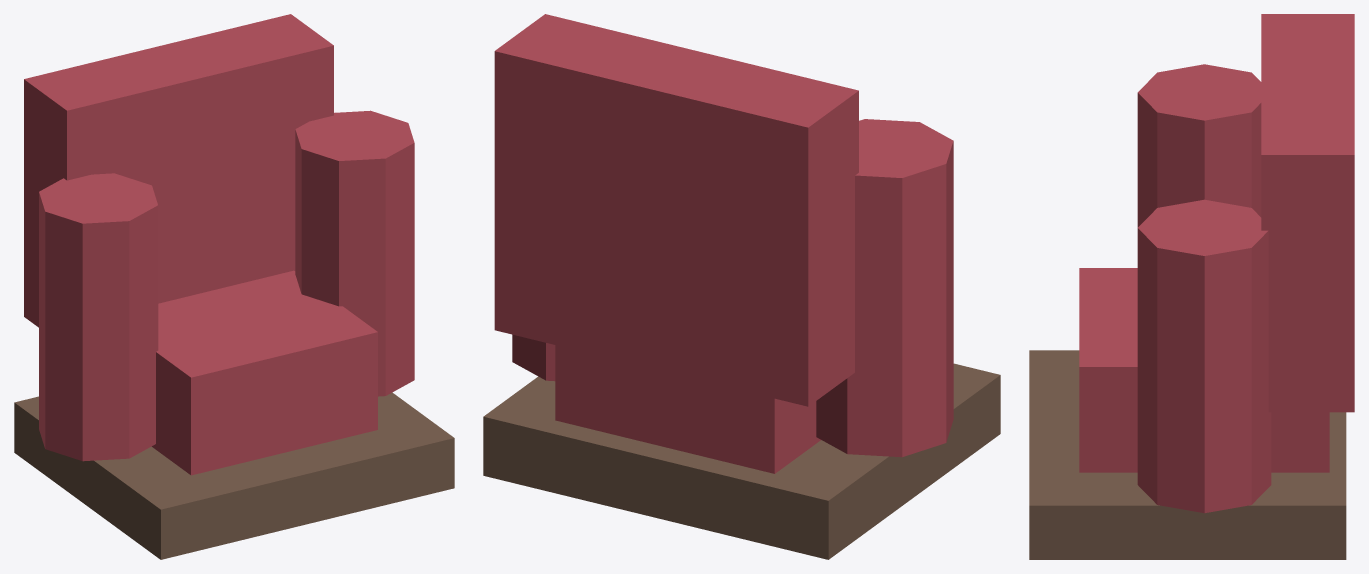
The model's file is haunted_armchair_red.glb.
3 renders of one model, left to right at view 1: azimuth 30°, elevation 25°; view 2: azimuth 150°, elevation 25°; view 3: azimuth 270°, elevation 25°, orthographic. The views are drawn at different scales.
Parts seen in each view (by area): view 1: Haunted_Armchair_Red; view 2: Haunted_Armchair_Red; view 3: Haunted_Armchair_Red.
Part boxes in pixels (x1,y1,x2,y2): Haunted_Armchair_Red: (14, 14, 454, 559); Haunted_Armchair_Red: (483, 14, 1000, 559); Haunted_Armchair_Red: (1029, 14, 1354, 559).
Size of the model in its own units: 1.36 by 1.33 by 0.975.
